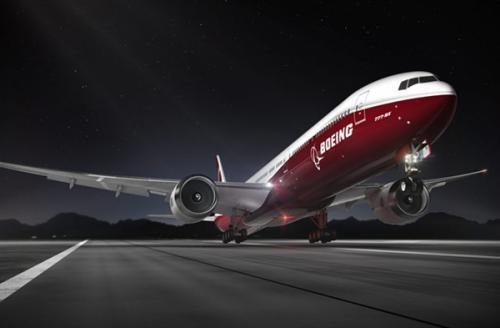airplane: (12, 65, 490, 246)
